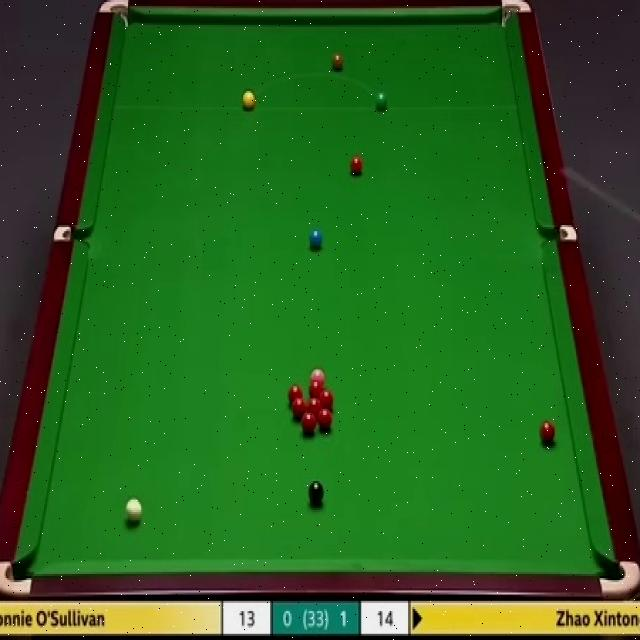black-ball: (308, 480, 324, 506)
blue-ball: (308, 227, 322, 250)
brown-ball: (332, 51, 344, 72)
green-ball: (374, 90, 388, 111)
pink-ball: (309, 366, 326, 380)
red-ball: (538, 419, 554, 445), (317, 408, 333, 432), (348, 154, 364, 177), (302, 412, 316, 435), (308, 379, 324, 397), (318, 390, 333, 409), (288, 383, 302, 403), (306, 398, 320, 417), (292, 398, 305, 418)
white-ball: (124, 496, 142, 524)
yellow-ball: (242, 89, 256, 110)
